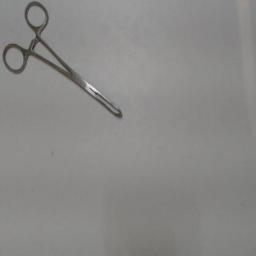Allis Tissue Forceps: (0, 0, 128, 124)
